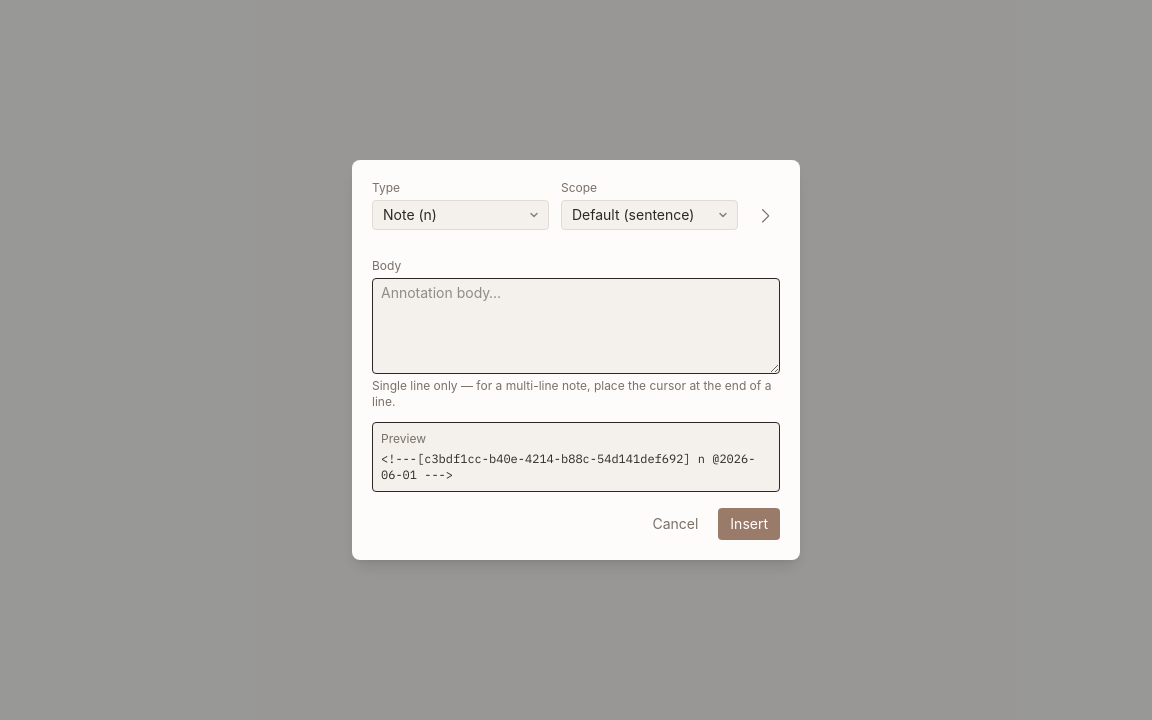
Test case: AnnotationBuilderModal › renders modal with fields
Expected: the element with test id "annotation-builder-panel" is shown, [352,160,800,560]
Expected: the dropdown with test id "annotation-type-select" is shown, [372,200,549,230]
Step 1. Click the button with test id "annotation-overflow-toggle" → (765, 216), box [750,201,780,230]
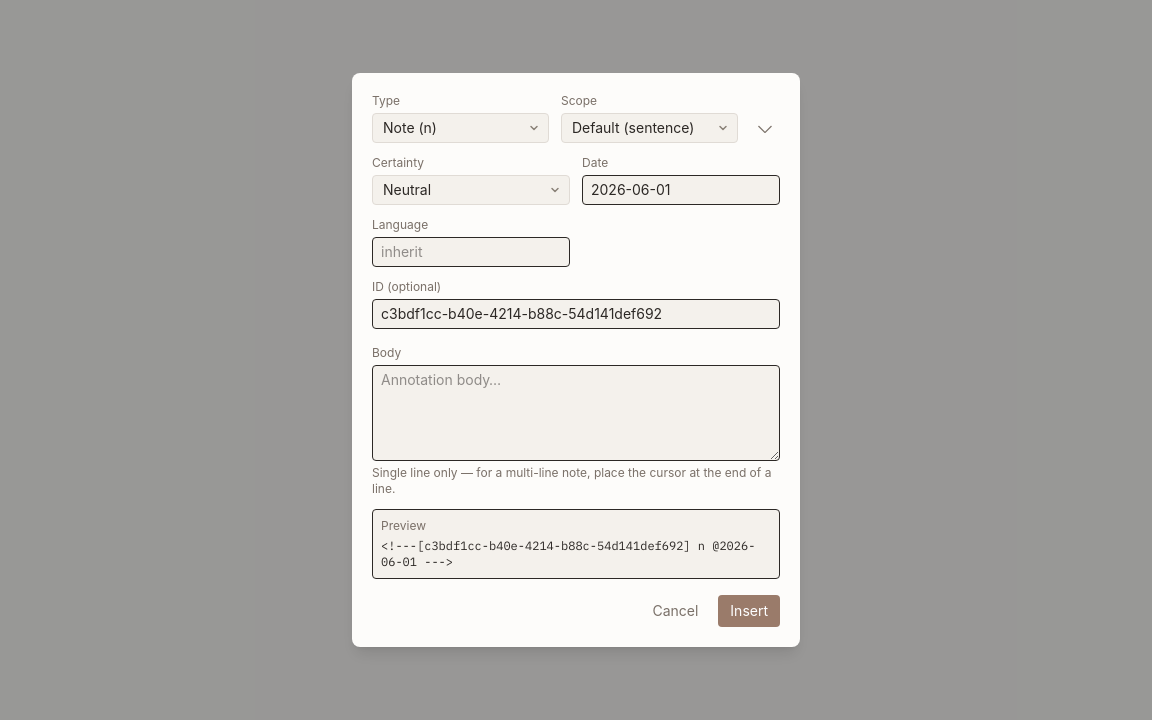
Expected: the dropdown with test id "annotation-certainty-select" is shown, [372,175,570,205]
Expected: the field with test id "annotation-id-input" is shown, [372,299,780,329]
Expected: the field with test id "annotation-date-input" is shown, [582,175,780,205]
